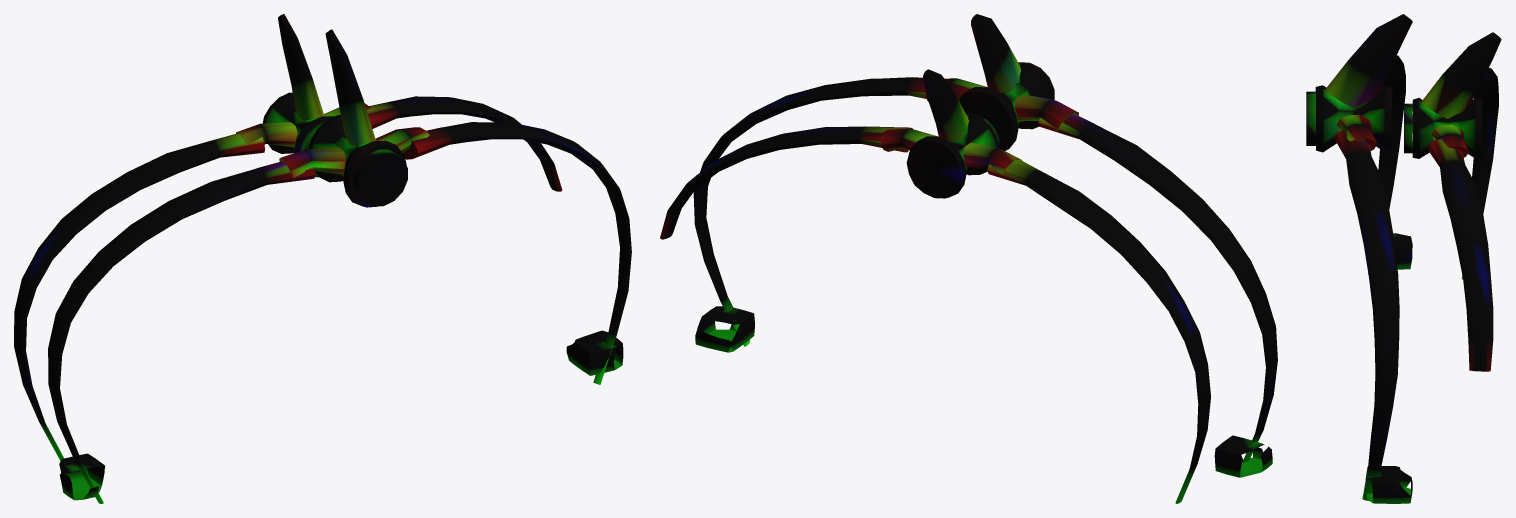
File: hero_fossil_arch.glb
3 renders of one model, left to right at view 1: azimuth 30°, elevation 25°; view 2: azimuth 150°, elevation 25°; view 3: azimuth 270°, elevation 25°, orthographic. The views are drawn at different scales.
Visible parts, largest first — view 1: HeroFossilArch; view 2: HeroFossilArch; view 3: HeroFossilArch.
Part boxes in pixels (<box>): HeroFossilArch: <box>14,14,631,503</box>; HeroFossilArch: <box>660,14,1277,503</box>; HeroFossilArch: <box>1306,14,1501,503</box>.
Size of the model in its own units: 31.72 by 21.2 by 10.02.
